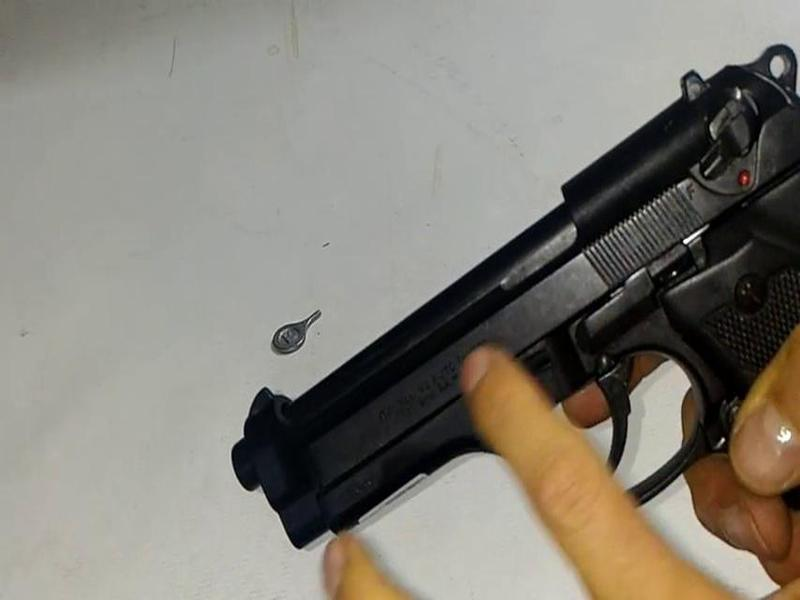Pistola: (157, 18, 800, 539)
